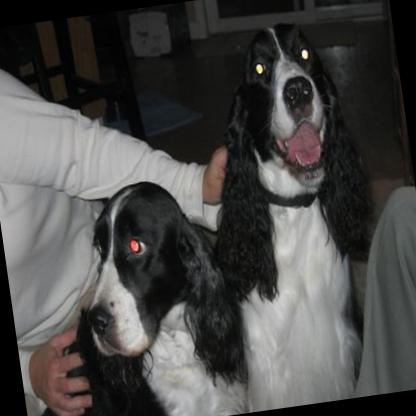English_springer: (176, 12, 398, 413), (68, 169, 251, 416)
